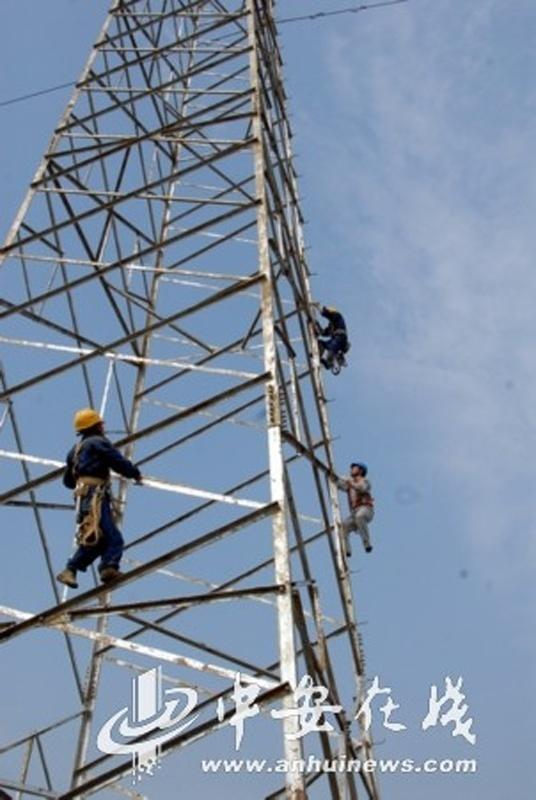power_tower: (5, 11, 396, 783)
